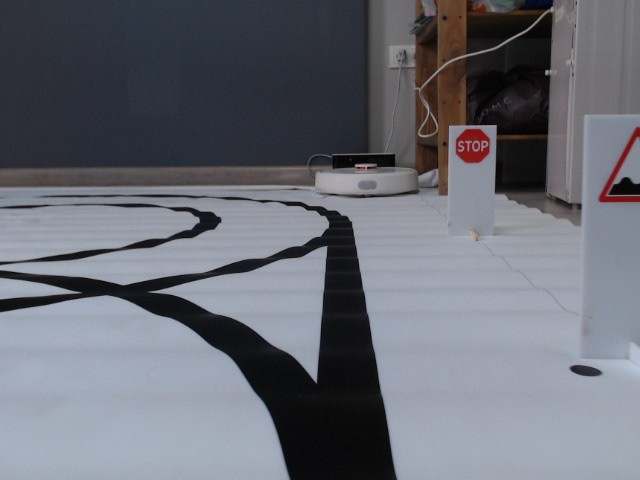Stop: (455, 127, 491, 163)
